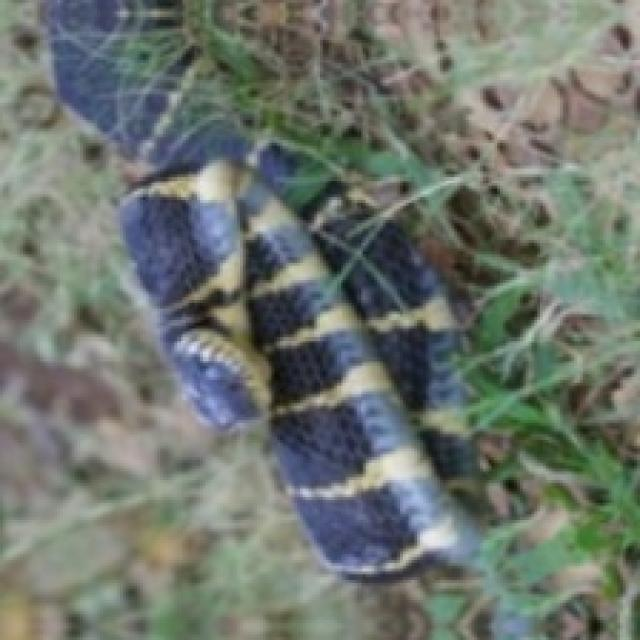mangrove cat snake: (46, 0, 477, 574), (120, 160, 477, 574)
